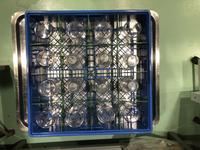Glass: (34, 21, 58, 43), (36, 106, 59, 128), (120, 19, 141, 42), (119, 101, 141, 122), (66, 20, 86, 43), (66, 105, 86, 127), (94, 21, 113, 43), (96, 102, 115, 124), (36, 50, 59, 68), (38, 78, 59, 97), (118, 76, 139, 92), (118, 54, 138, 70), (66, 53, 84, 70), (67, 77, 84, 94), (95, 52, 112, 68), (94, 78, 110, 94)
